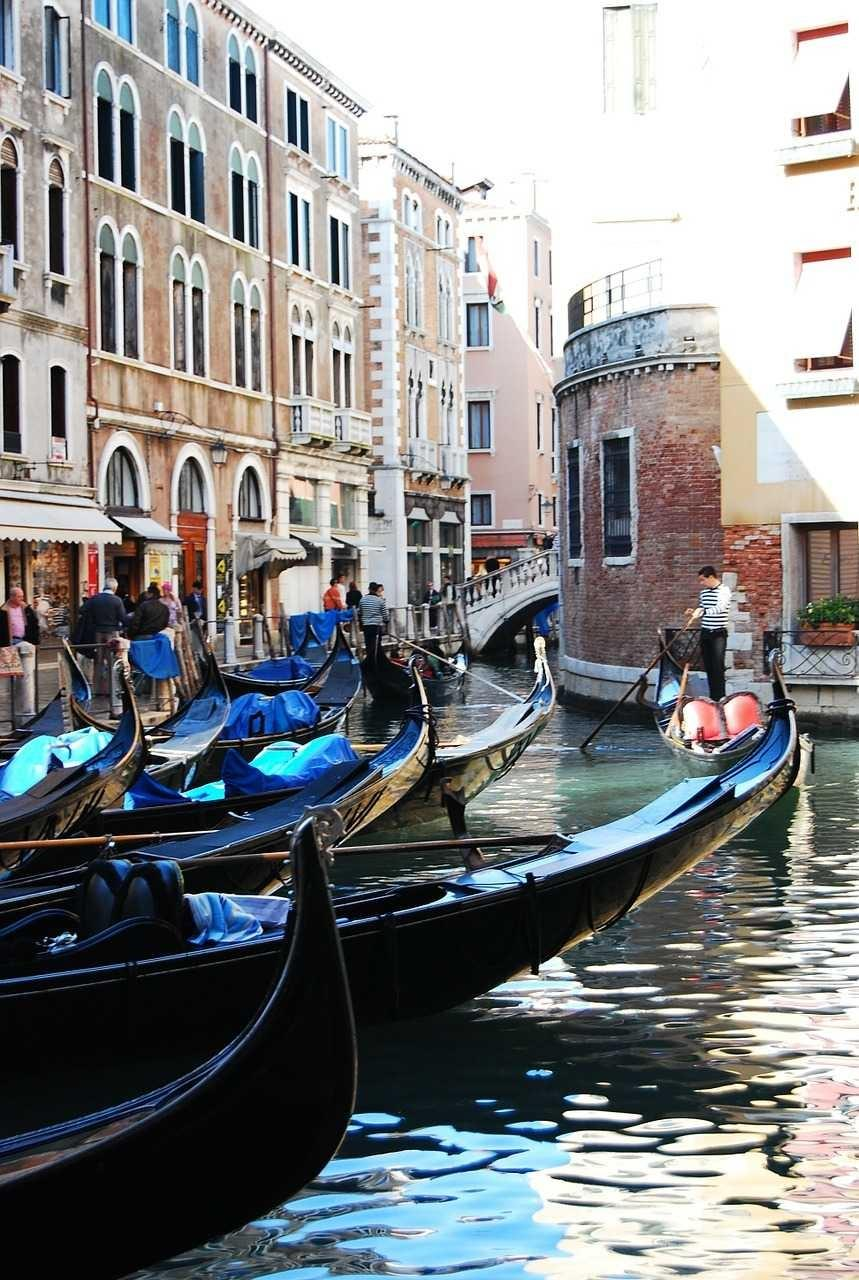kayak: (2, 630, 805, 1034), (0, 807, 360, 1278), (2, 686, 438, 883), (57, 617, 231, 781), (0, 662, 147, 846), (416, 636, 557, 816), (215, 617, 364, 751), (369, 635, 468, 705)
